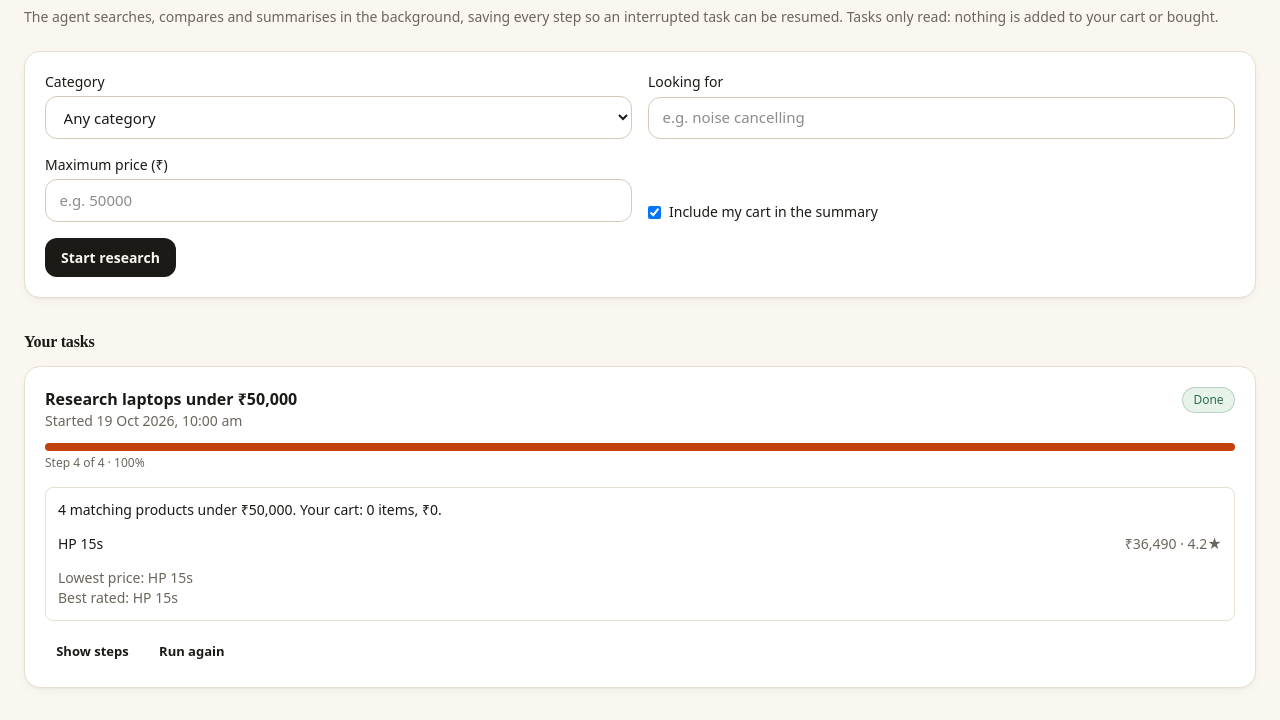
it: Task controls › Run again sends only kind, the task's own input and an idempotency key, and shows the new task
(page scrolled)
Click the button "Run again". click: (192, 652)
box: [148, 637, 236, 667]
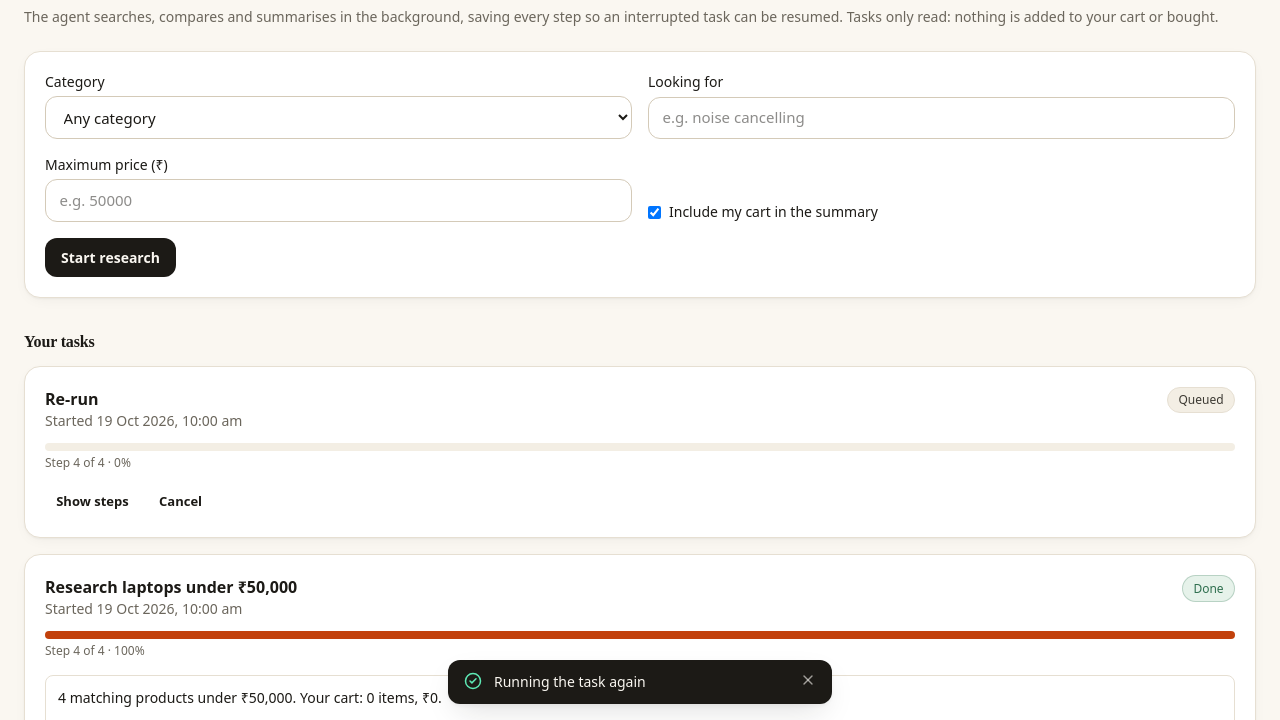
expect the text "Re-run" is shown: met, box [45, 388, 98, 410]
expect the text "Running the task again" is shown: met, box [494, 672, 646, 691]
